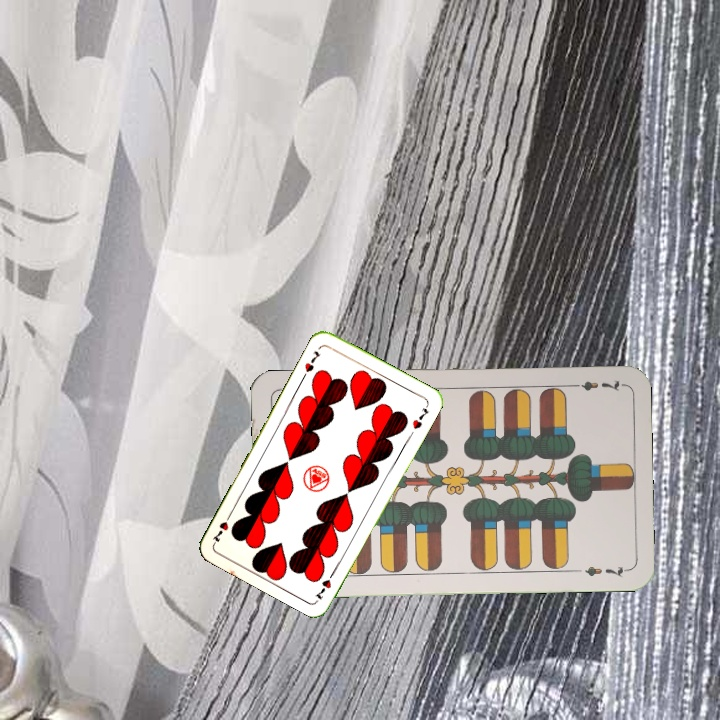E7: (565, 377, 624, 394)
H7: (312, 566, 338, 603), (301, 347, 323, 375)
